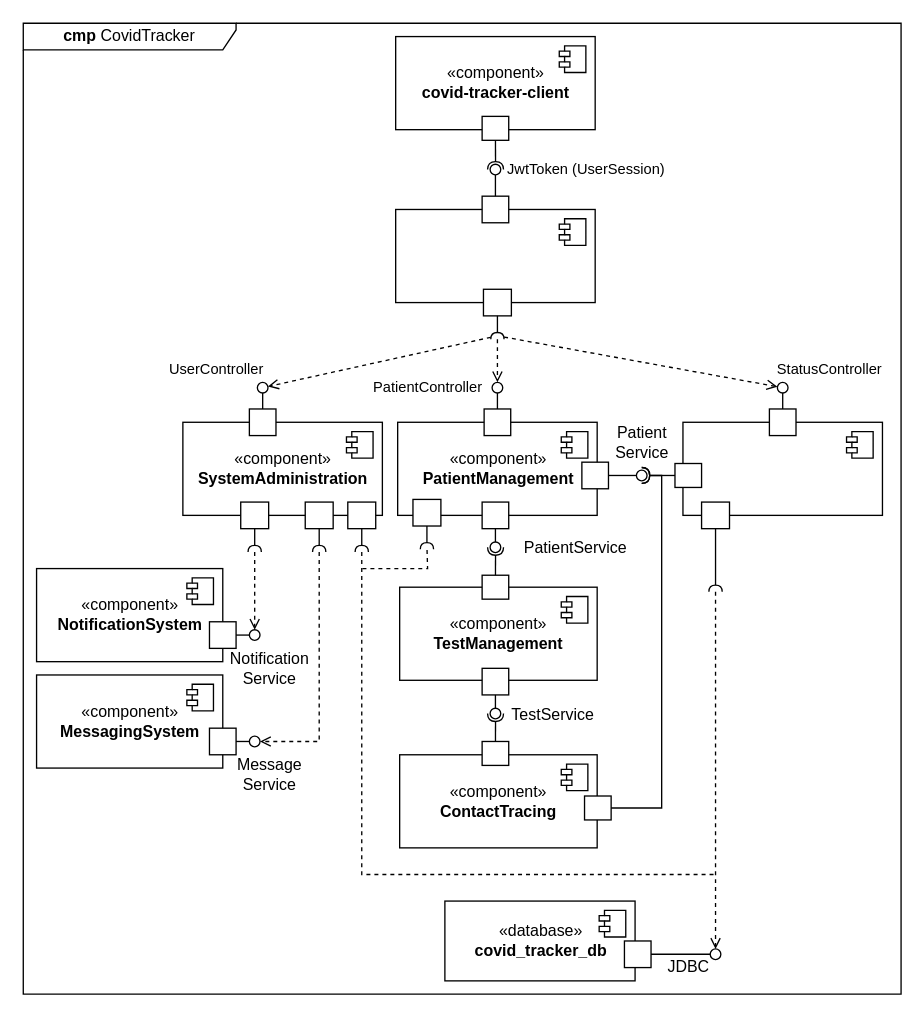
The diagram is 924 pixels wide and 1017 high, and some of its shapes have lost their labels. Each missing label, with the box of its shape:
«component» Authorization: (394, 208, 595, 303)
«component» StatusManagement: (682, 421, 882, 515)
